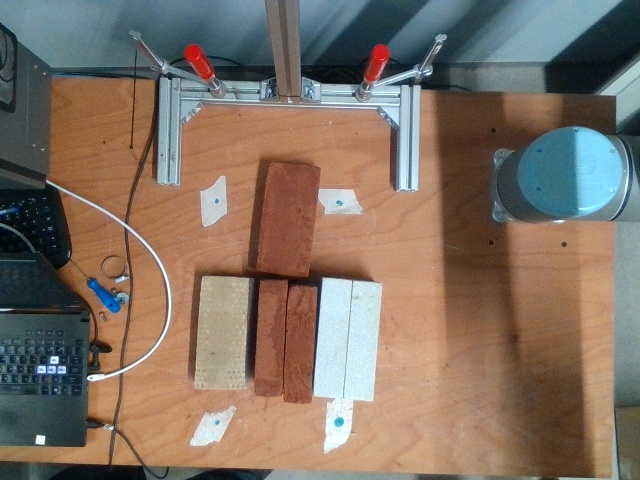brick: (256, 163, 317, 279), (193, 277, 248, 391)
brick-side: (341, 280, 382, 400), (312, 279, 352, 399), (253, 279, 286, 396), (283, 286, 316, 403)
